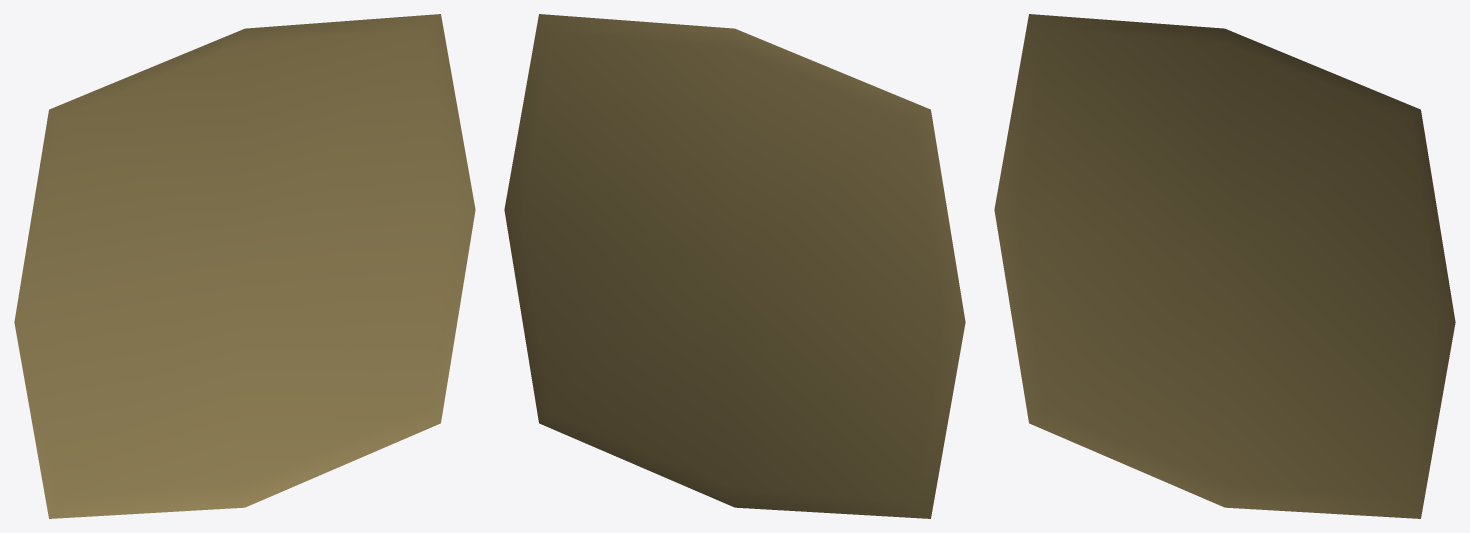
Rendered from Soil 01.FBX.
The picture shows the model from 3 angles, left to right: view 1: azimuth 30°, elevation 25°; view 2: azimuth 150°, elevation 25°; view 3: azimuth 330°, elevation 25°; orthographic projection.
Parts seen in each view (by area): view 1: Soil 01; view 2: Soil 01; view 3: Soil 01.
Part boxes in pixels (x1,y1,x2,y2): Soil 01: (14,14,475,518); Soil 01: (504,14,965,518); Soil 01: (994,14,1455,518).
Bounding box in the file's own units: 463 × 459 × 4.44.
Materials: 1 (1 with a texture image).
